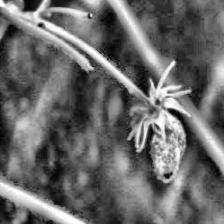Gray Mold: (126, 62, 192, 183)
